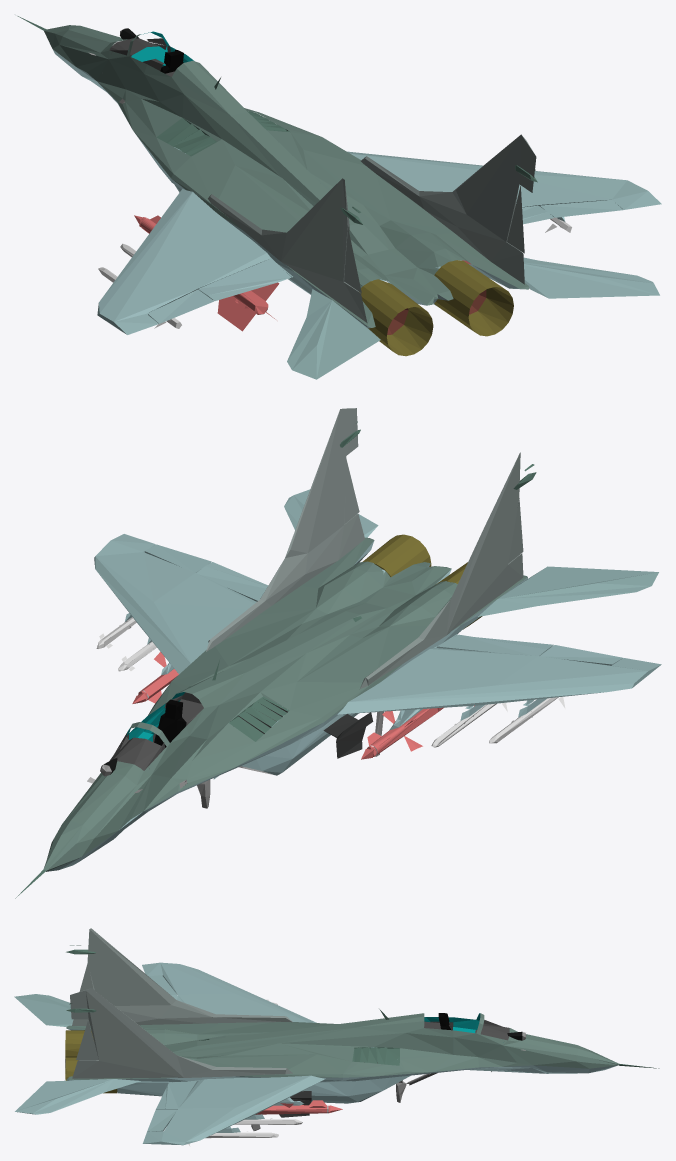
File: mig29_lod.glb
3 views of the same model, one above another, from view 1: azimuth 30°, elevation 25°; view 2: azimuth 150°, elevation 25°; view 3: azimuth 270°, elevation 25° (orthographic). The views are drawn at different scales.
Parts seen in each view (by area): view 1: body; view 2: body; view 3: body.
Part boxes in pixels (x1,y1,x2,y2): body: (17,16,661,379); body: (15,408,661,898); body: (14,928,659,1146).
Size of the model in its own units: 11.29 by 4.44 by 17.28.
